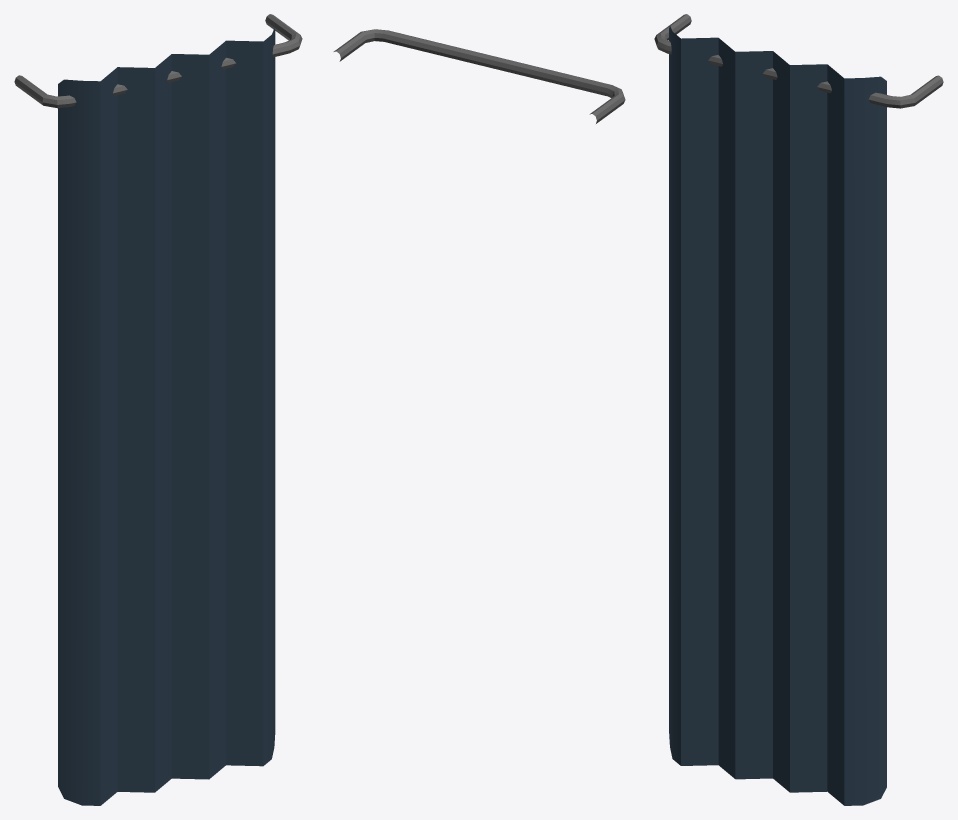
The model's file is quaternius-house-interior-curtains-single.glb.
3 views of the same model, side by side, from view 1: azimuth 30°, elevation 25°; view 2: azimuth 150°, elevation 25°; view 3: azimuth 330°, elevation 25° (orthographic). The views are drawn at different scales.
Visible parts, largest first — view 1: Curtains_Single; view 2: Curtains_Single; view 3: Curtains_Single.
Boxes of the visible parts, x1,y1,x2,y2 form: Curtains_Single: [14, 14, 302, 805]; Curtains_Single: [333, 29, 625, 123]; Curtains_Single: [654, 14, 943, 805].
Size of the model in its own units: 1.63 by 4.34 by 0.4763.
